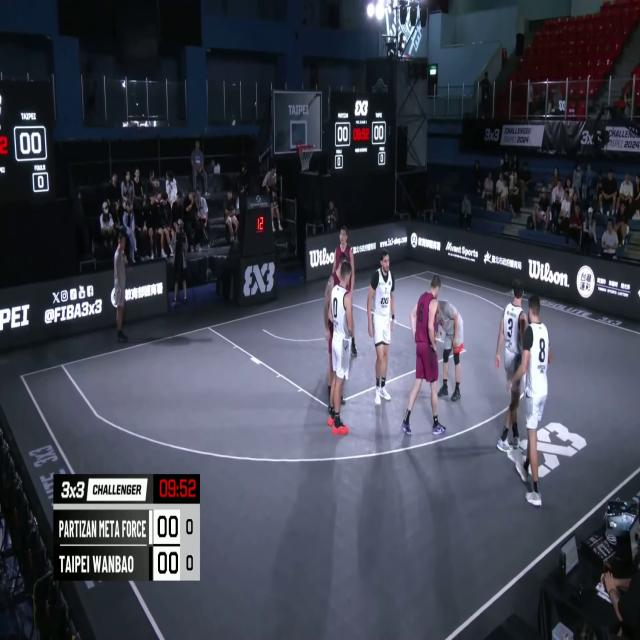hoop: (296, 138, 314, 172)
player: (510, 296, 549, 508), (490, 276, 529, 458), (404, 276, 444, 438), (324, 224, 356, 416), (367, 248, 395, 404), (333, 259, 357, 438)
